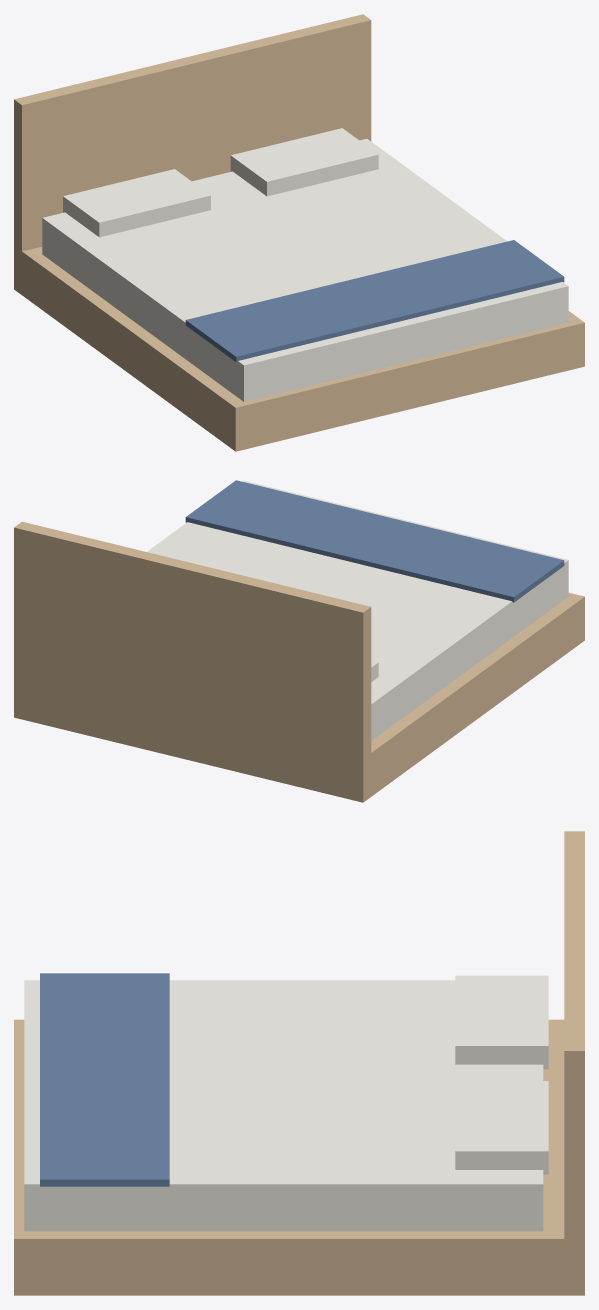
Rendered from BED001.glb.
3 views of the same model, one above another, from view 1: azimuth 30°, elevation 25°; view 2: azimuth 150°, elevation 25°; view 3: azimuth 270°, elevation 25° (orthographic). The views are drawn at different scales.
Parts seen in each view (by area): view 1: FurnitureRoot; view 2: FurnitureRoot; view 3: FurnitureRoot.
Part boxes in pixels (x1,y1,x2,y2): FurnitureRoot: [14, 14, 584, 451]; FurnitureRoot: [14, 480, 584, 802]; FurnitureRoot: [14, 831, 584, 1295].
Bounding box in the file's own units: 200 × 104 × 220.
